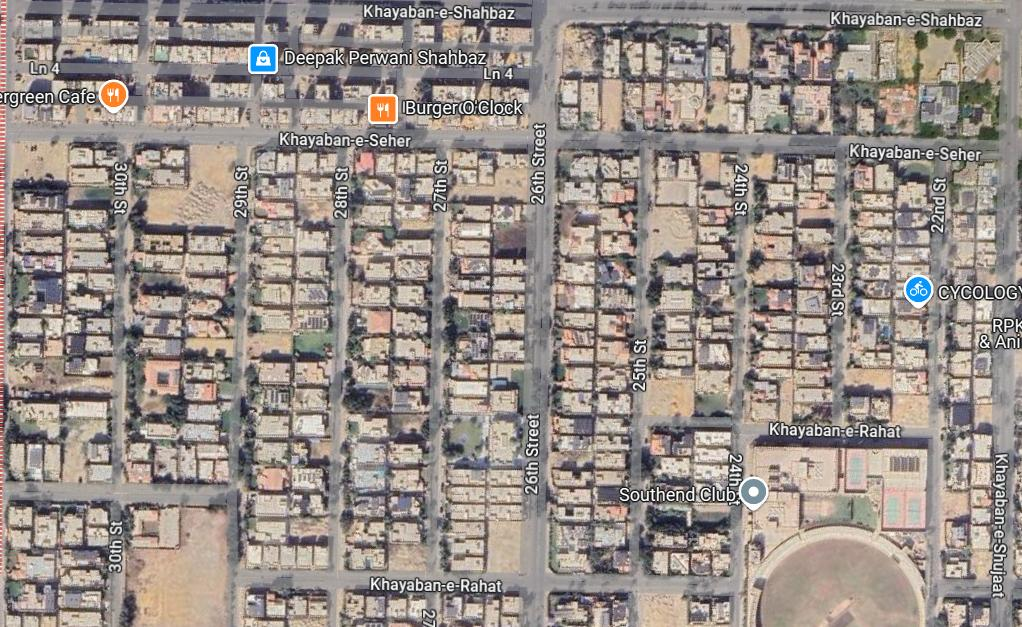Buildings: (556, 24, 1005, 146), (644, 153, 742, 581), (241, 149, 337, 569), (123, 144, 242, 481), (547, 151, 639, 578), (348, 150, 436, 571), (444, 152, 532, 573), (8, 142, 116, 485), (748, 154, 834, 423), (944, 158, 997, 581), (851, 157, 933, 420), (257, 82, 531, 128), (263, 23, 533, 69), (14, 75, 252, 126), (19, 19, 253, 64)
